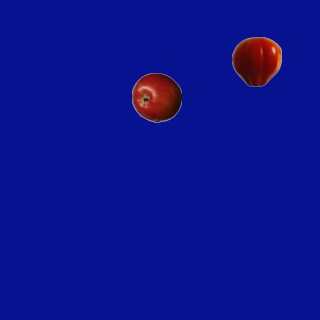Apple Braeburn: (131, 72, 181, 122)
Tomato 1: (231, 36, 281, 86)
